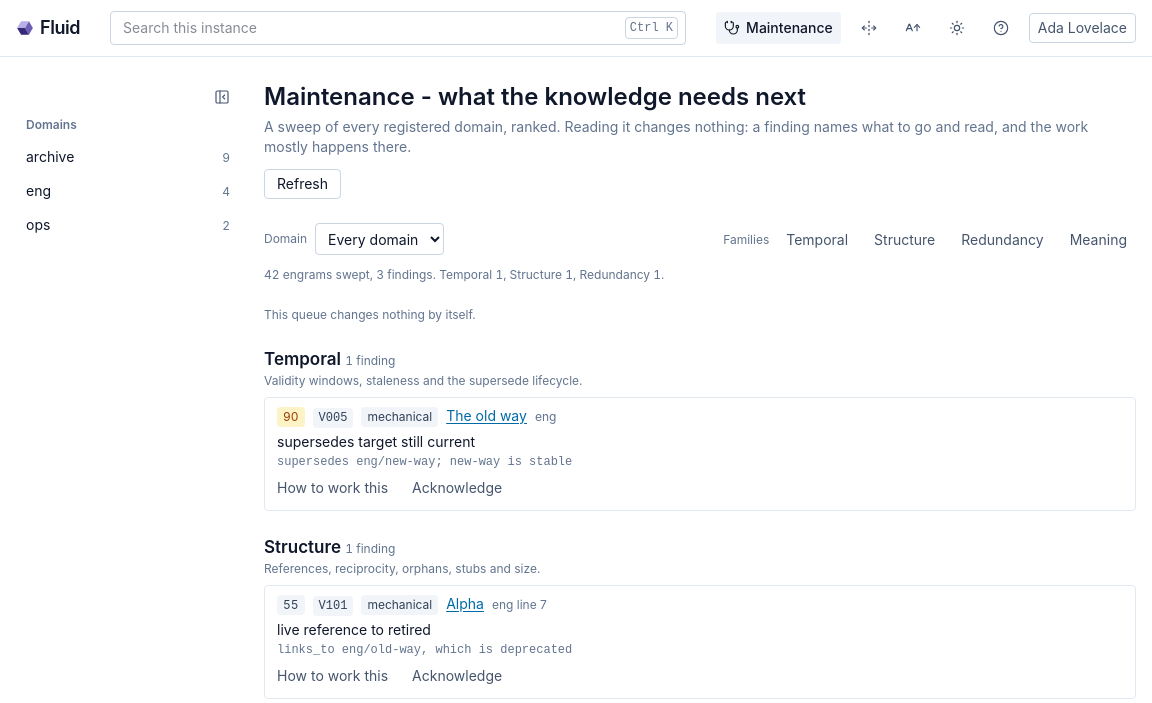
Scenario: working the queue from the keyboard › points the disclosure at the panel it opens
Expected: the heading "Maintenance - what the knowledge needs next" is shown, [264,82,806,111]
Click the button "How to work this" below "90" at {"x": 333, "y": 488}, box [269,474,396,502]
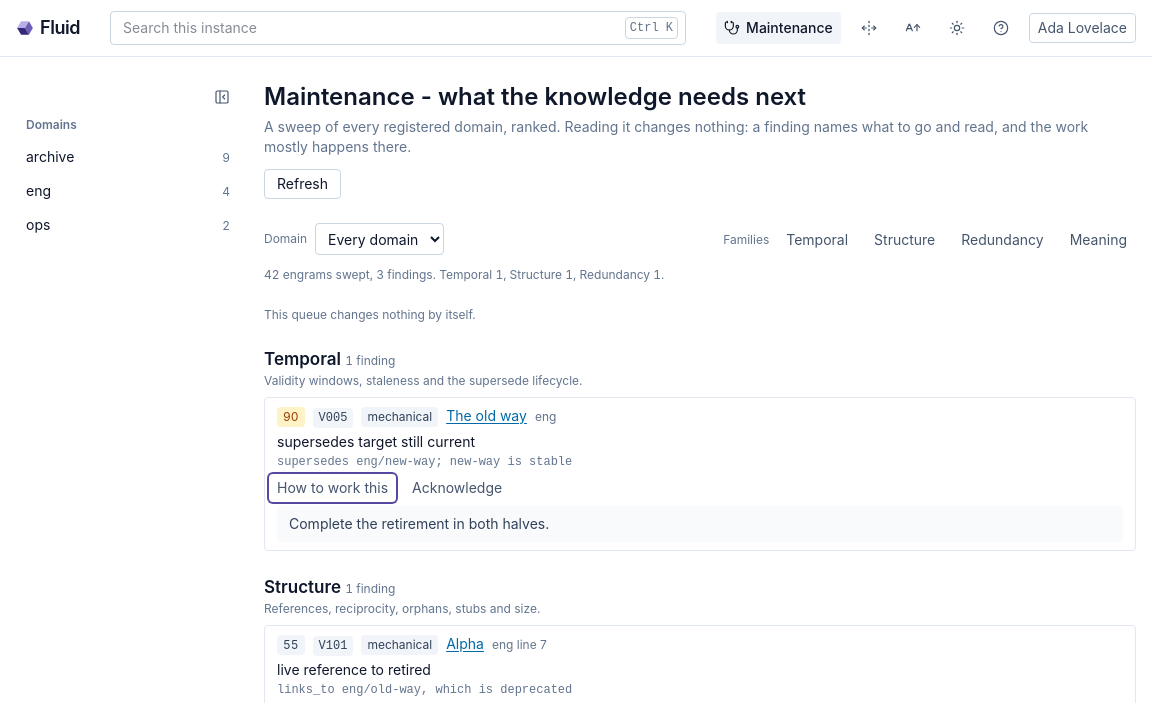
Result: the text "Complete the retirement in both halves." is shown at [289,515,549,532]
